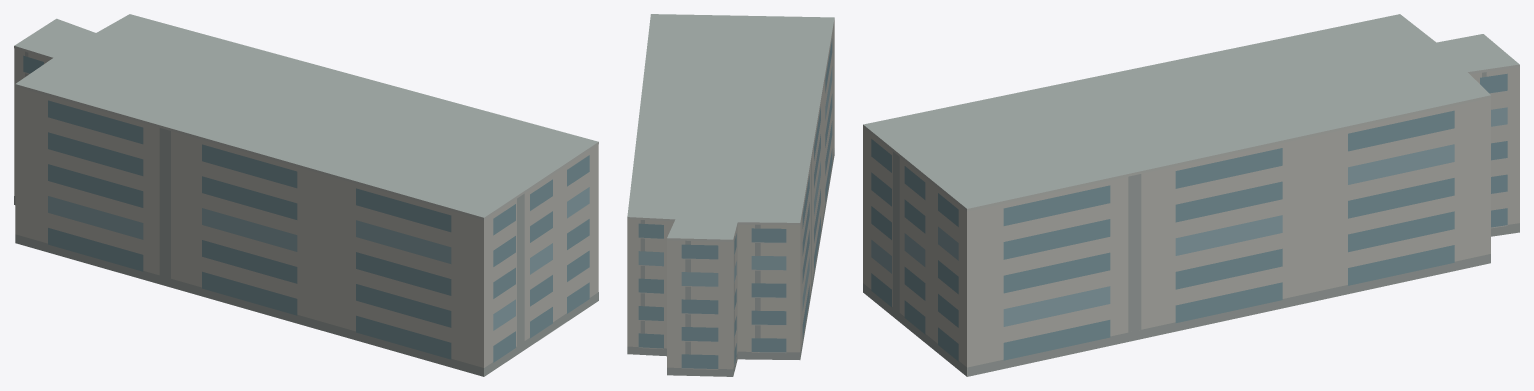
File: survey-upis-32841903.glb
3 renders of one model, left to right at view 1: azimuth 30°, elevation 25°; view 2: azimuth 150°, elevation 25°; view 3: azimuth 270°, elevation 25°, orthographic. The views are drawn at different scales.
Parts seen in each view (by area): view 1: survey-upis-32841903.tmp; view 2: survey-upis-32841903.tmp; view 3: survey-upis-32841903.tmp.
Boxes of the visible parts, left/top/right/bottom form: survey-upis-32841903.tmp: left=14, top=14, right=598, bottom=376; survey-upis-32841903.tmp: left=627, top=14, right=834, bottom=376; survey-upis-32841903.tmp: left=863, top=14, right=1519, bottom=376.
Bounding box in the file's own units: 37.97 × 15.25 × 54.04.
